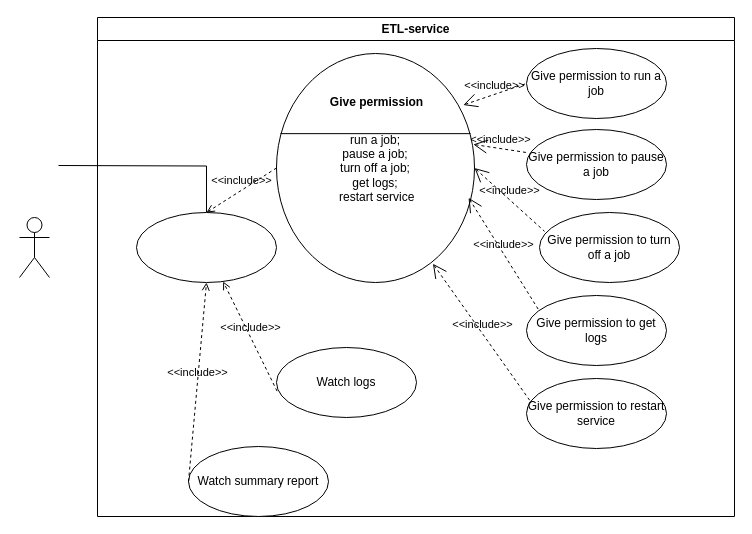
Image size: 752x534. Some labels were removed from this diagram. Each missing label, with the centre of its shape:
"Log in" goes at point (206, 247).
"Owner" goes at point (34, 247).
